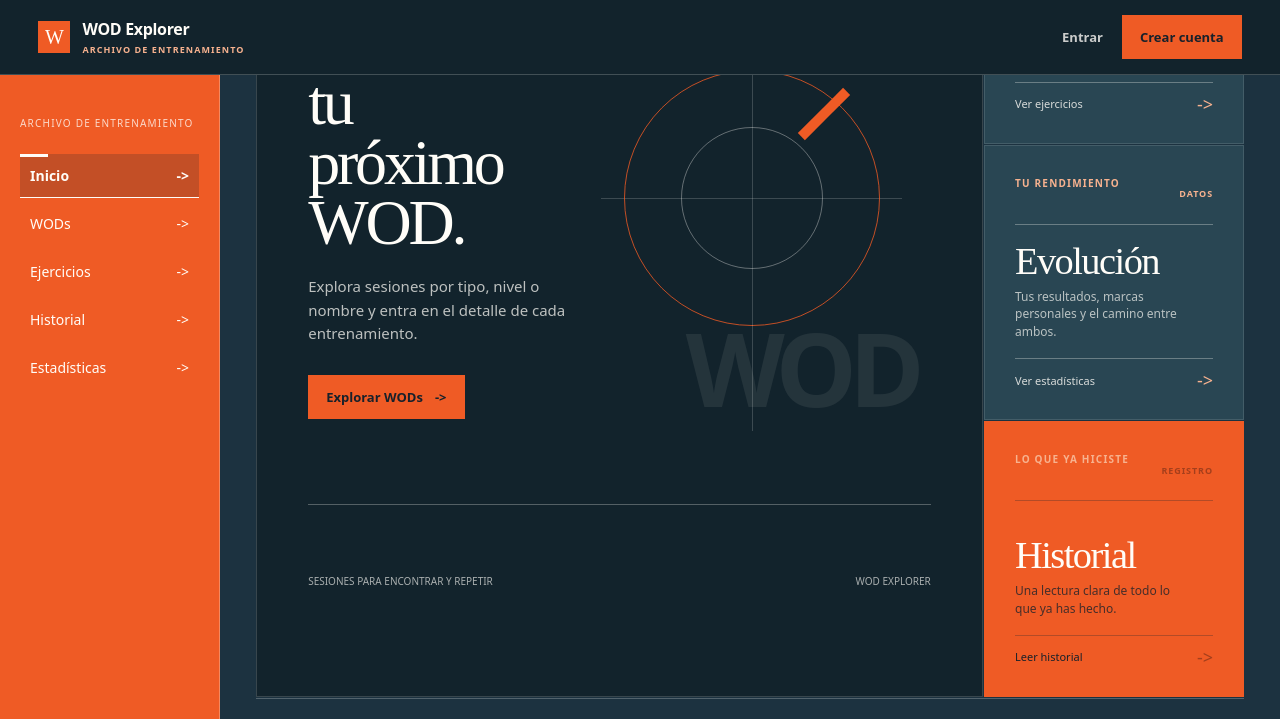
App navigation › renders the selected page after navigating through a visible link
(page scrolled)
Click the link "Explorar WODs ->" at (386, 397), box [308, 375, 464, 419]
(page scrolled)
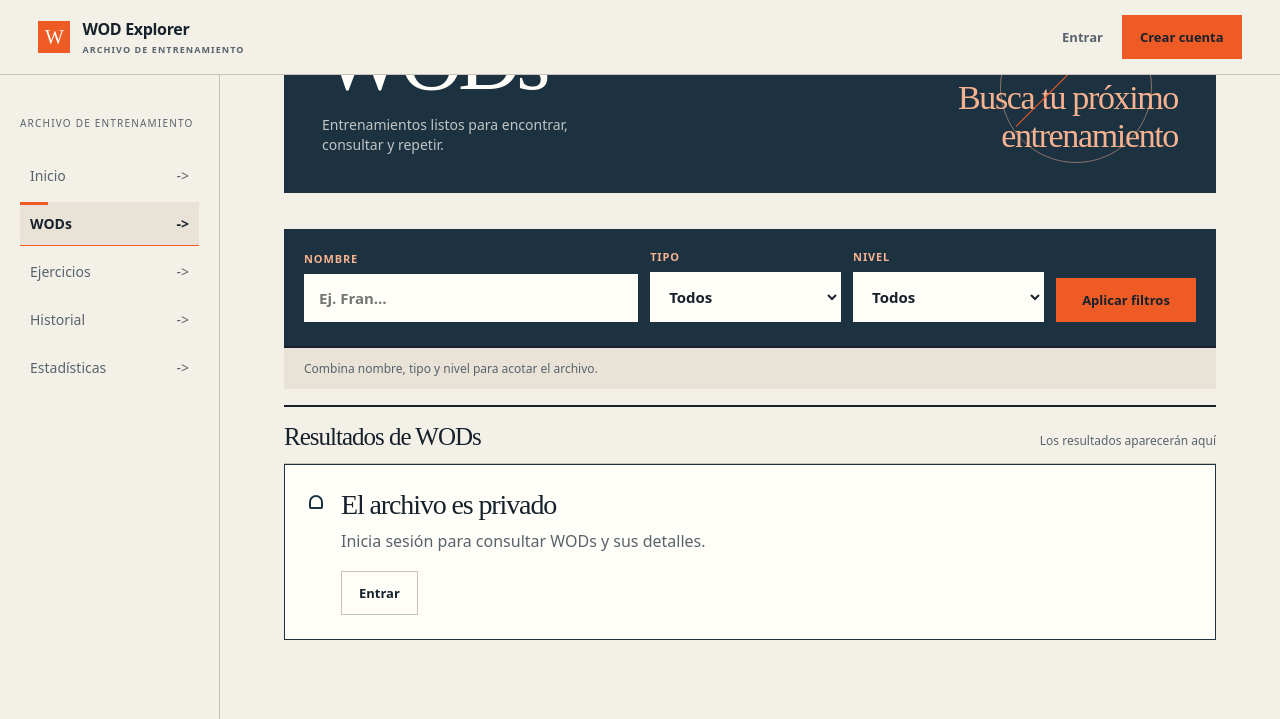
Expected: the heading "WODs" is shown, [322, 11, 545, 108]
Result: the heading "El archivo es privado" is shown at [341, 489, 556, 520]
